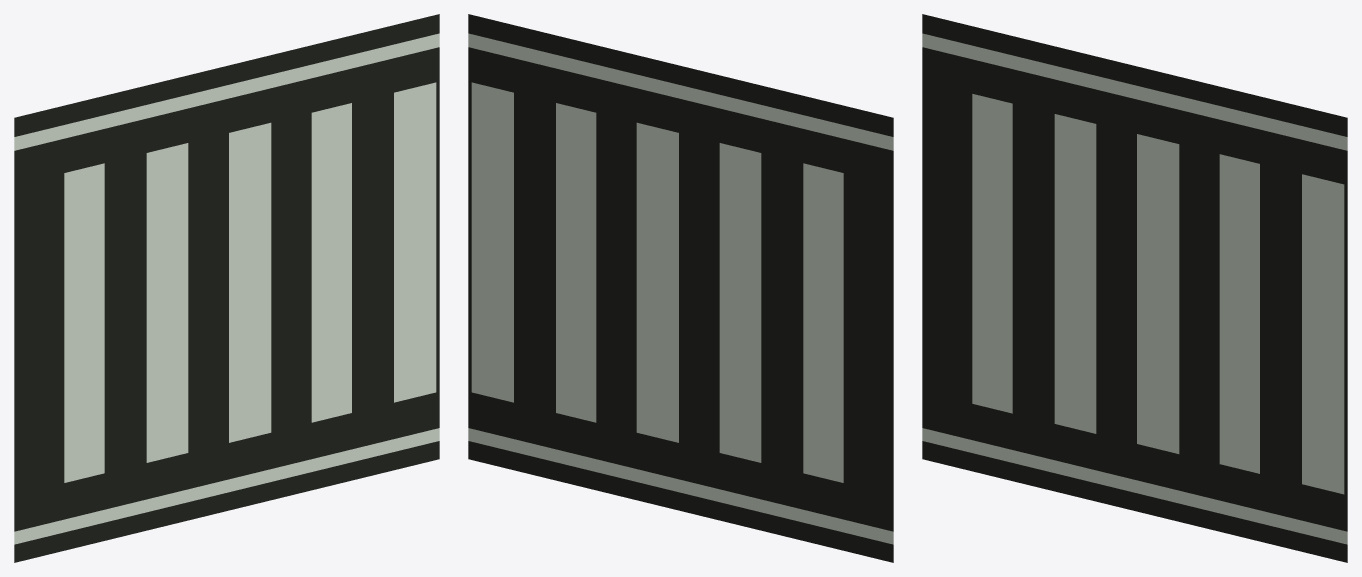
Rendered from Road002.fbx.
3 renders of one model, left to right at view 1: azimuth 30°, elevation 25°; view 2: azimuth 150°, elevation 25°; view 3: azimuth 330°, elevation 25°, orthographic.
Parts seen in each view (by area): view 1: Road1.001; view 2: Road1.001; view 3: Road1.001.
Part boxes in pixels (x1,y1,x2,y2): Road1.001: [14, 14, 439, 562]; Road1.001: [468, 14, 893, 562]; Road1.001: [922, 14, 1347, 562].
Bounding box in the file's own units: 600 × 600 × 0.000248.
Materials: 1 (1 with a texture image).
